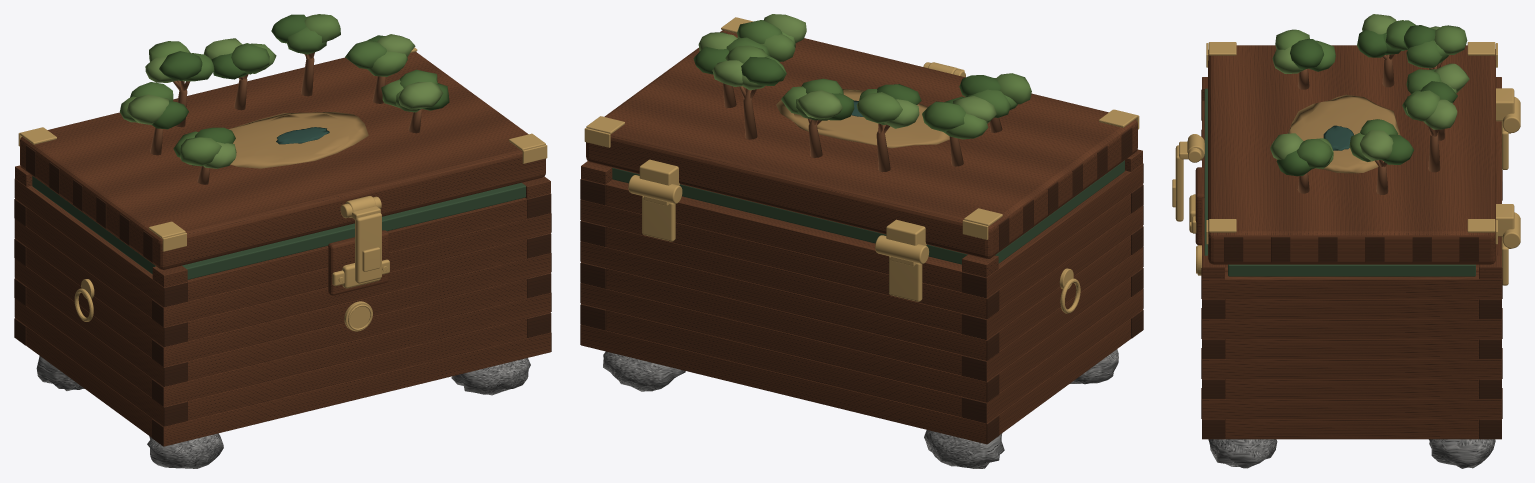
The model's file is central-african-republic.glb.
3 renders of one model, left to right at view 1: azimuth 30°, elevation 25°; view 2: azimuth 150°, elevation 25°; view 3: azimuth 270°, elevation 25°, orthographic. The views are drawn at different scales.
Visible parts, largest first — view 1: Lid / polished slab, Timber / front course 0, Timber / front course 2, Timber / front course 4, Timber / front course 1, Timber / front course 6, Timber / front course 3, Timber / front course 5, Timber / front course 7, Landscape / sandy clearing, Mineral seam / long, Timber / side course 7 (+28 smaller); view 2: Lid / polished slab, Timber / rear course 4, Timber / rear course 2, Timber / rear course 0, Timber / rear course 7, Timber / rear course 5, Timber / rear course 3, Timber / rear course 1, Timber / rear course 6, Timber / side course 7, Timber / side course 1, Timber / side course 3 (+31 smaller); view 3: Lid / polished slab, Timber / side course 7.001, Timber / side course 1.001, Timber / side course 3.001, Timber / side course 5.001, Timber / side course 0.001, Timber / side course 2.001, Timber / side course 4.001, Timber / side course 6.001, Landscape / sandy clearing, Mineral seam / side.001, Granite foot.002 (+52 smaller).
Part boxes in pixels (box(x1,y1,x2,y2)): Lid / polished slab: box(20, 51, 545, 269); Timber / front course 0: box(153, 332, 550, 446); Timber / front course 2: box(153, 292, 550, 406); Timber / front course 4: box(152, 253, 550, 366); Timber / front course 1: box(187, 318, 526, 420); Timber / front course 6: box(152, 213, 550, 327); Timber / front course 3: box(187, 278, 526, 380); Timber / front course 5: box(188, 239, 526, 341); Timber / front course 7: box(187, 197, 526, 301); Landscape / sandy clearing: box(228, 112, 368, 168); Mineral seam / long: box(182, 182, 525, 279); Timber / side course 7: box(15, 179, 187, 306); Lid / polished slab: box(586, 30, 1137, 258); Timber / rear course 4: box(581, 241, 998, 360); Timber / rear course 2: box(581, 283, 998, 402); Timber / rear course 0: box(581, 324, 998, 444); Timber / rear course 7: box(606, 179, 961, 292); Timber / rear course 5: box(606, 226, 961, 333); Timber / rear course 3: box(606, 268, 961, 375); Timber / rear course 1: box(606, 310, 961, 417); Timber / rear course 6: box(581, 199, 998, 319); Timber / side course 7: box(962, 163, 1142, 297); Timber / side course 1: box(962, 289, 1142, 422); Timber / side course 3: box(962, 247, 1142, 381); Lid / polished slab: box(1208, 45, 1495, 264); Timber / side course 7.001: box(1202, 271, 1501, 299); Timber / side course 1.001: box(1202, 399, 1501, 419); Timber / side course 3.001: box(1202, 359, 1501, 379); Timber / side course 5.001: box(1202, 319, 1501, 339); Timber / side course 0.001: box(1225, 419, 1478, 439); Timber / side course 2.001: box(1225, 379, 1478, 399); Timber / side course 4.001: box(1225, 339, 1478, 359); Timber / side course 6.001: box(1225, 299, 1478, 319); Landscape / sandy clearing: box(1288, 94, 1400, 173); Mineral seam / side.001: box(1228, 264, 1475, 276); Granite foot.002: box(1208, 439, 1277, 468).
Bounding box in the file's own units: 3.79 × 3.01 × 2.88.
12 materials, 3 textured.
